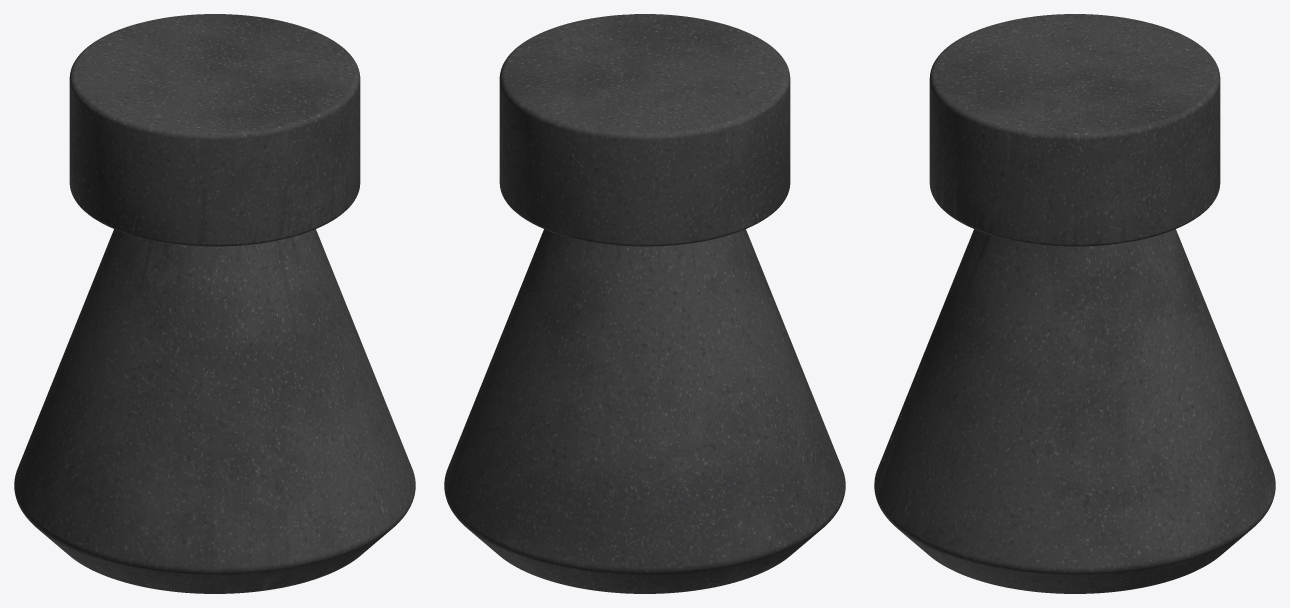
The model's file is rook-black-hd.glb.
The picture shows the model from 3 angles, left to right: view 1: azimuth 30°, elevation 25°; view 2: azimuth 150°, elevation 25°; view 3: azimuth 270°, elevation 25°; orthographic projection.
Visible parts, largest first — view 1: 03_vez_cerna; view 2: 03_vez_cerna; view 3: 03_vez_cerna.
Part boxes in pixels (bbox=[...]): 03_vez_cerna: bbox=[14, 14, 415, 593]; 03_vez_cerna: bbox=[444, 14, 845, 593]; 03_vez_cerna: bbox=[874, 14, 1275, 593].
Size of the model in its own units: 0.796 by 0.99 by 0.796.
Materials: 1 (1 with a texture image).
